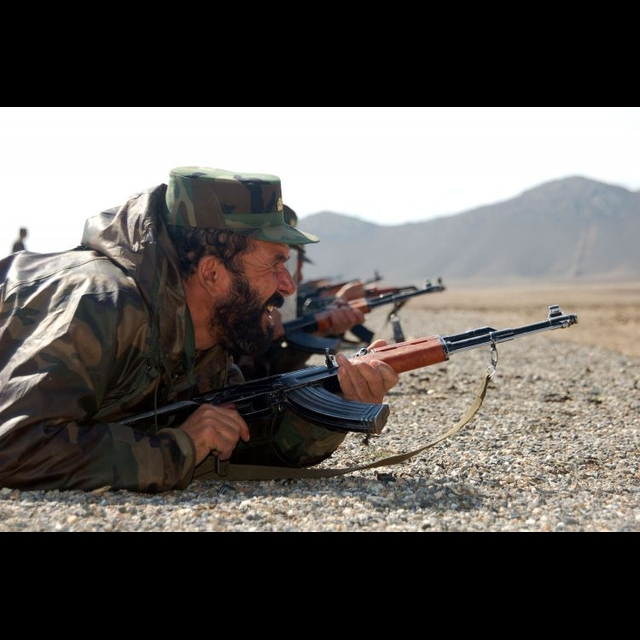AK47: (200, 315, 602, 433)
